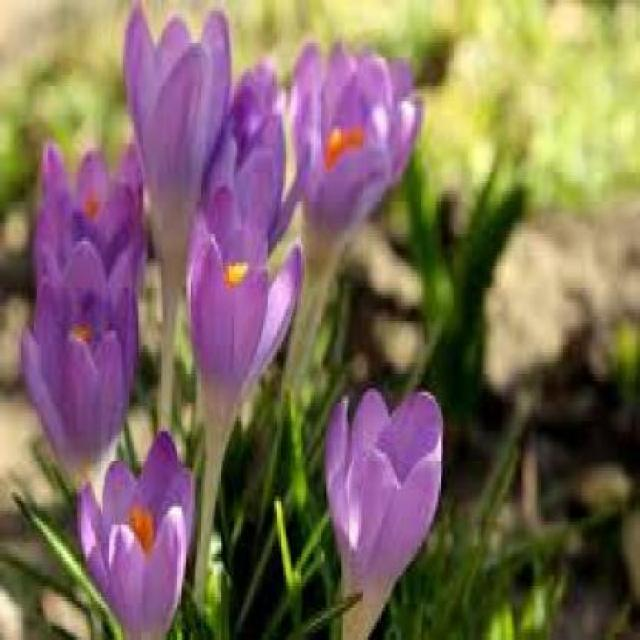Flower: (292, 17, 422, 303), (178, 207, 305, 468), (325, 373, 446, 624), (23, 253, 145, 498), (72, 432, 212, 638), (124, 0, 232, 252)
